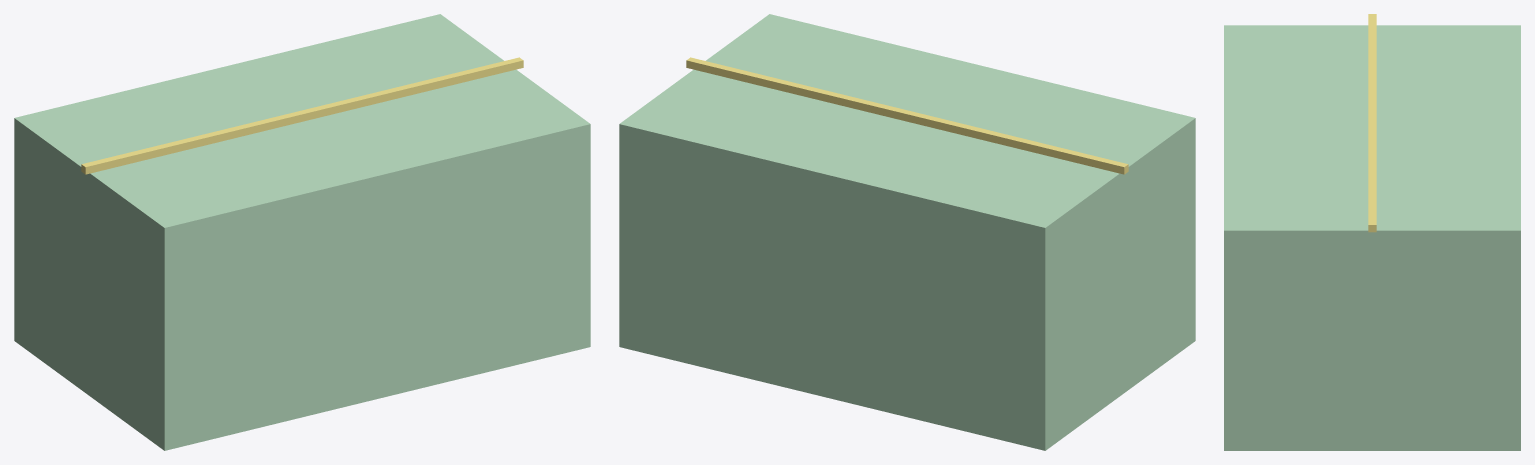
Rendered from rectangular-prism.glb.
The picture shows the model from 3 angles, left to right: view 1: azimuth 30°, elevation 25°; view 2: azimuth 150°, elevation 25°; view 3: azimuth 270°, elevation 25°; orthographic projection.
Parts seen in each view (by area): view 1: prism, width_axis; view 2: prism, width_axis; view 3: prism, width_axis.
Part boxes in pixels (left/top/right/bottom): prism: left=14, top=14, right=590, bottom=450; width_axis: left=81, top=57, right=523, bottom=174; prism: left=619, top=14, right=1195, bottom=450; width_axis: left=686, top=57, right=1128, bottom=174; prism: left=1224, top=25, right=1520, bottom=450; width_axis: left=1368, top=14, right=1376, bottom=232.
Size of the model in its own units: 1.58 by 0.7969 by 0.9375.
